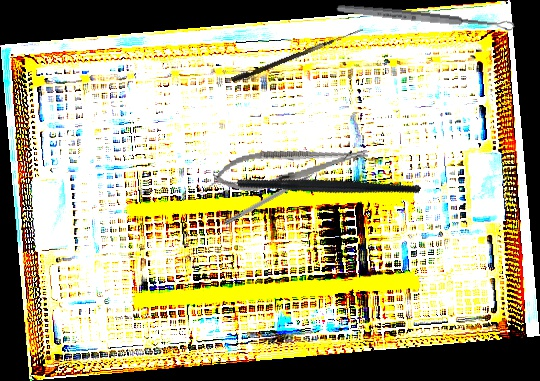Chopper: (199, 110, 422, 270)
Hook Surgical: (231, 22, 363, 86), (223, 164, 330, 226)
Needle Holder: (210, 135, 372, 198)
Surgical Spoon: (335, 2, 516, 33)
